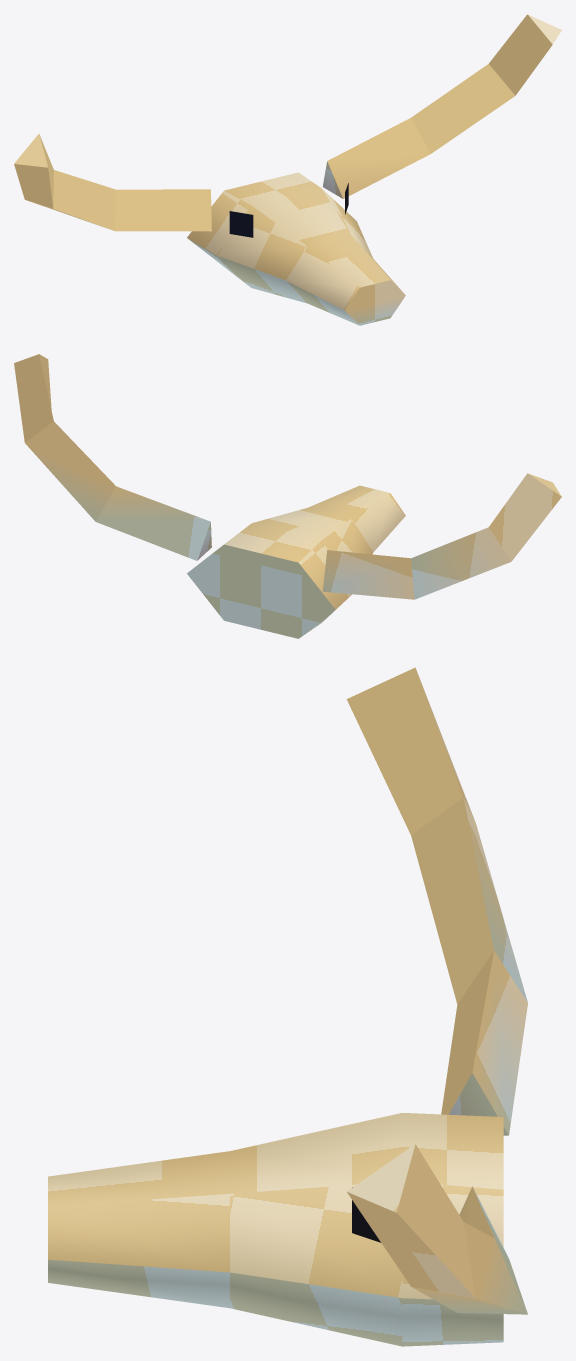
File: wprop.skull.glb
The picture shows the model from 3 angles, top to bottom: view 1: azimuth 30°, elevation 25°; view 2: azimuth 150°, elevation 25°; view 3: azimuth 270°, elevation 25°; orthographic projection. The views are drawn at different scales.
Visible parts, largest first — view 1: kit_horns, kit_skull, kit_card_eyes; view 2: kit_horns, kit_skull; view 3: kit_skull, kit_horns.
Boxes of the visible parts, <box> form: kit_horns: <box>14,14,561,231</box>; kit_skull: <box>187,172,405,325</box>; kit_card_eyes: <box>229,183,348,237</box>; kit_horns: <box>14,354,561,599</box>; kit_skull: <box>187,485,405,638</box>; kit_skull: <box>48,1113,503,1346</box>; kit_horns: <box>346,667,527,1314</box>.
Bounding box in the file's own units: 1.25 × 0.4432 × 0.4743.
Materials: 2 (2 with a texture image).
